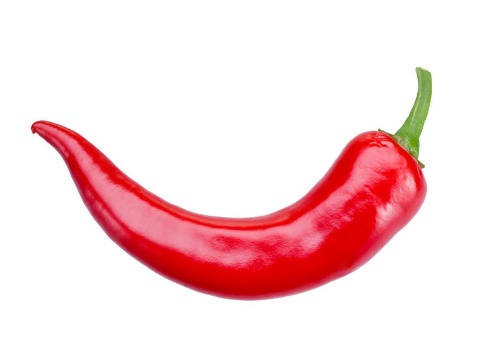Chilli: (21, 88, 450, 311)
